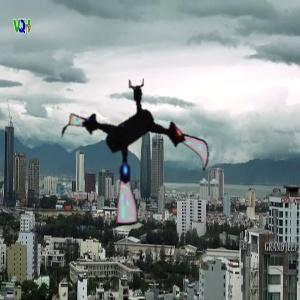drone: (59, 77, 214, 232)
